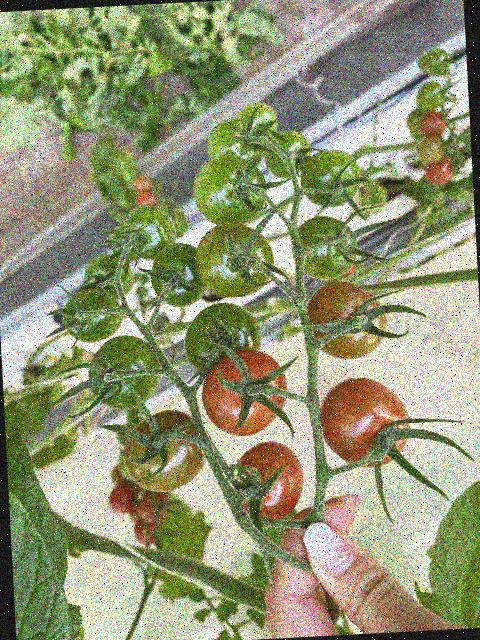l_green: (192, 220, 275, 301), (181, 300, 265, 378), (87, 333, 165, 413), (192, 153, 271, 228), (288, 215, 360, 284), (298, 148, 364, 210), (150, 241, 209, 308), (61, 287, 126, 344), (206, 116, 270, 169), (123, 202, 178, 262), (263, 129, 314, 183), (84, 251, 136, 302), (235, 101, 281, 145), (107, 222, 141, 261)
l_half_ripened: (318, 375, 413, 470), (200, 347, 290, 439), (120, 408, 206, 495), (306, 278, 390, 363), (232, 438, 307, 523)
